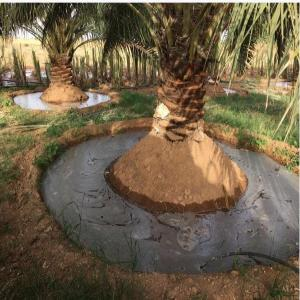palm tree: (0, 2, 105, 102)
